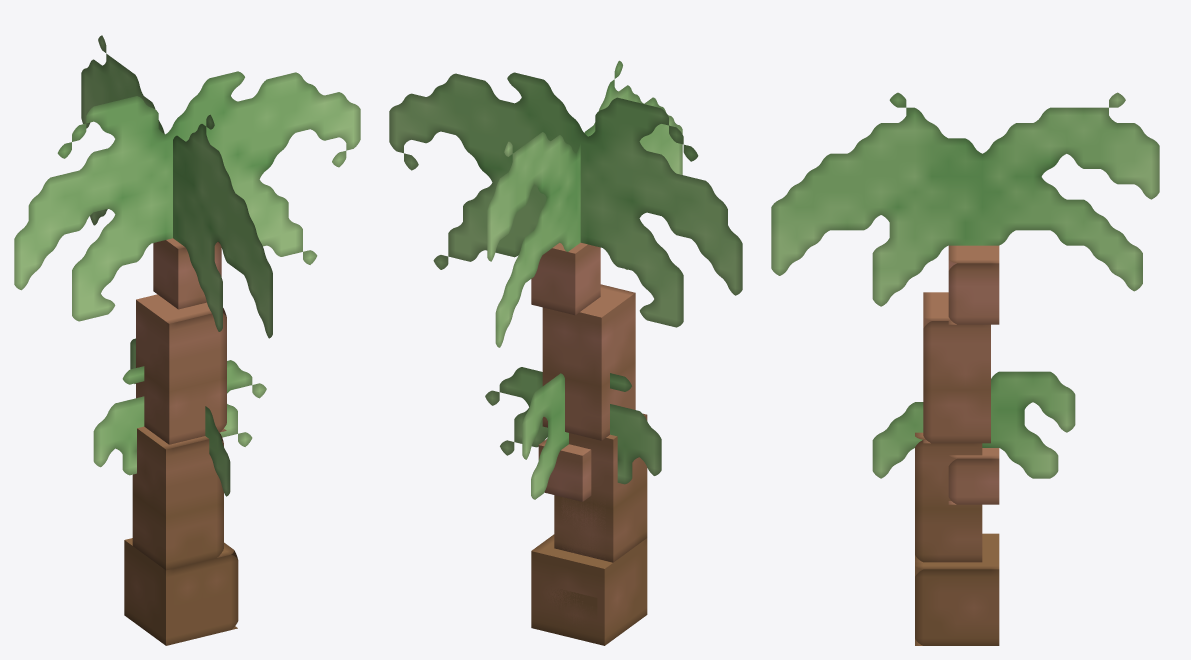
Rendered from PalmTree.fbx.
3 views of the same model, side by side, from view 1: azimuth 30°, elevation 25°; view 2: azimuth 150°, elevation 25°; view 3: azimuth 270°, elevation 25° (orthographic).
Parts seen in each view (by area): view 1: crown, crown_1, trunk2, trunk_1, trunk, crown_2, trunk2_1, crown_3; view 2: crown, crown_1, trunk2, trunk, trunk_1, crown_2, trunk2_1, crown_3, trunk_4, trunk_2, trunk_3; view 3: crown_1, trunk2, crown_3, trunk, trunk_1, trunk2_1, trunk_4.
Part boxes in pixels (x1=…): crown: x1=14, y1=71, x2=360, y2=321; crown_1: x1=81, y1=35, x2=272, y2=338; trunk2: x1=136, y1=294, x2=226, y2=444; trunk_1: x1=132, y1=426, x2=223, y2=570; trunk: x1=124, y1=538, x2=238, y2=645; crown_2: x1=93, y1=360, x2=266, y2=475; trunk2_1: x1=153, y1=238, x2=221, y2=309; crown_3: x1=130, y1=338, x2=230, y2=496; crown: x1=389, y1=72, x2=742, y2=327; crown_1: x1=487, y1=60, x2=682, y2=347; trunk2: x1=542, y1=284, x2=635, y2=440; trunk: x1=531, y1=534, x2=647, y2=645; trunk_1: x1=554, y1=413, x2=647, y2=562; crown_2: x1=485, y1=367, x2=661, y2=484; trunk2_1: x1=531, y1=242, x2=600, y2=315; crown_3: x1=522, y1=373, x2=568, y2=499; trunk_4: x1=538, y1=439, x2=591, y2=501; trunk_2: x1=539, y1=589, x2=597, y2=642; trunk_3: x1=561, y1=496, x2=605, y2=556; crown_1: x1=771, y1=92, x2=1159, y2=306; trunk2: x1=923, y1=292, x2=990, y2=443; crown_3: x1=872, y1=371, x2=1075, y2=478; trunk: x1=915, y1=533, x2=999, y2=645; trunk_1: x1=915, y1=432, x2=982, y2=562; trunk2_1: x1=948, y1=245, x2=999, y2=324; trunk_4: x1=948, y1=448, x2=999, y2=504.
Bounding box in the file's own units: 75 × 109 × 75.
Materials: 1 (1 with a texture image).
